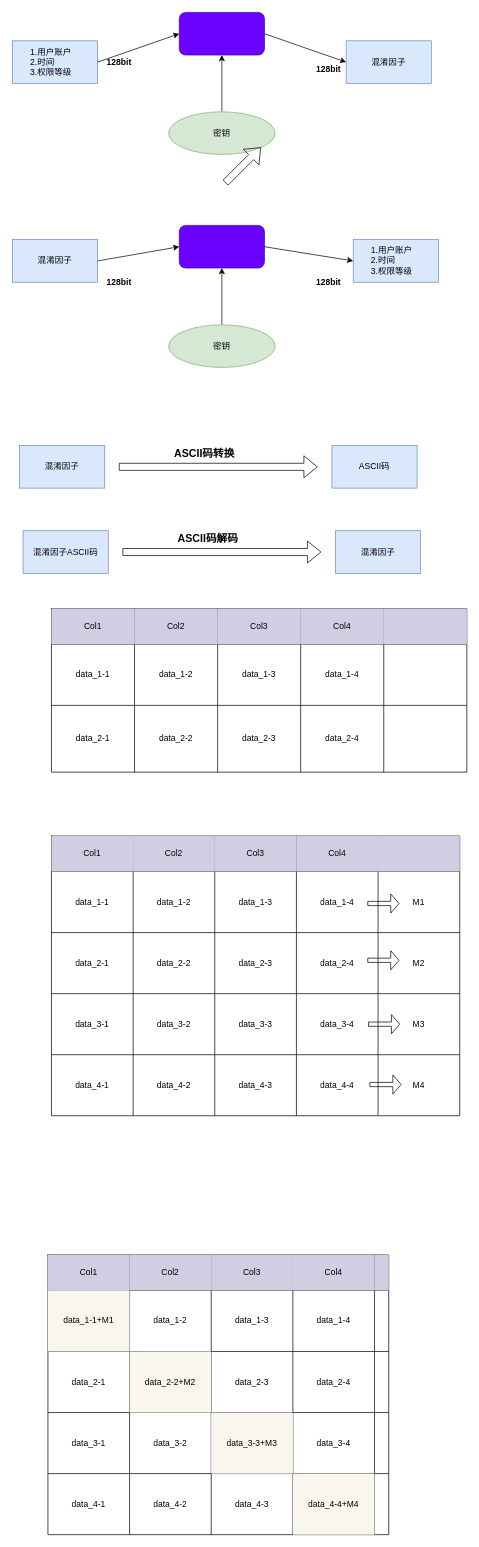
Image size: 479x1547. Some labels were removed from this diagram. Each missing label, with the box of its shape:
AES加密器: (179, 12, 264, 55)
AES解密器: (179, 225, 264, 268)
